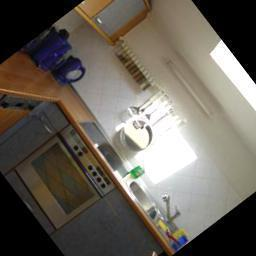Electrodomestico: (6, 124, 120, 237)
Lavaplatos: (123, 166, 197, 247)
